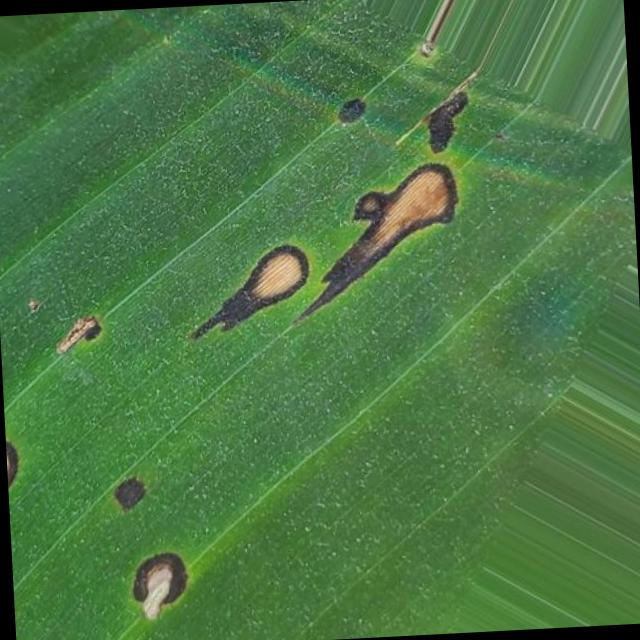Banana_Black_Sigatoka: (197, 67, 528, 370), (79, 470, 254, 640)
